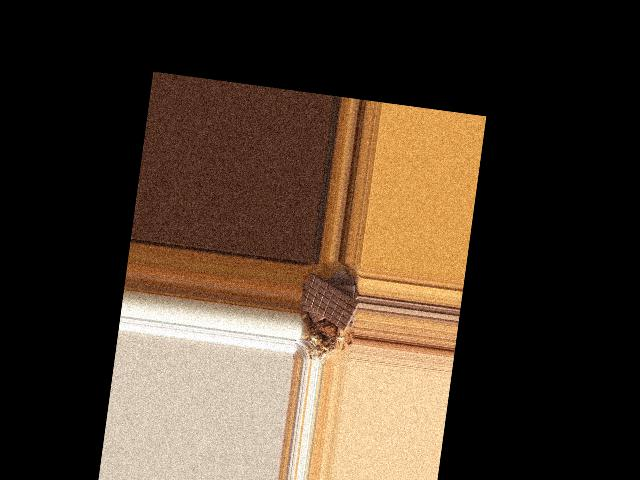chocolate: (299, 271, 361, 335)
